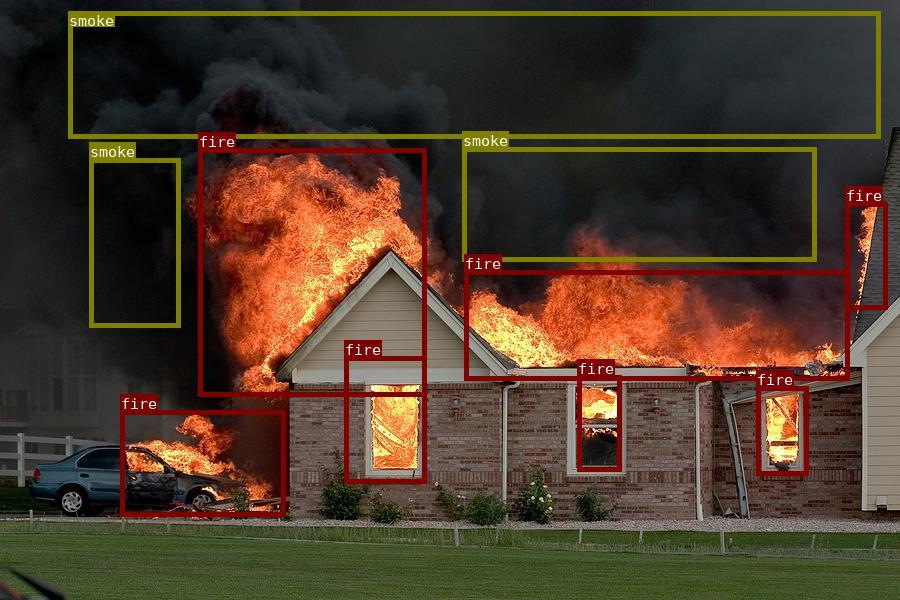fire: (197, 148, 425, 396), (463, 270, 848, 379), (120, 409, 284, 515), (344, 355, 426, 482), (756, 385, 807, 475), (845, 202, 887, 309), (577, 374, 621, 470)
smoke: (68, 11, 880, 137), (462, 146, 815, 261), (89, 158, 180, 327)
